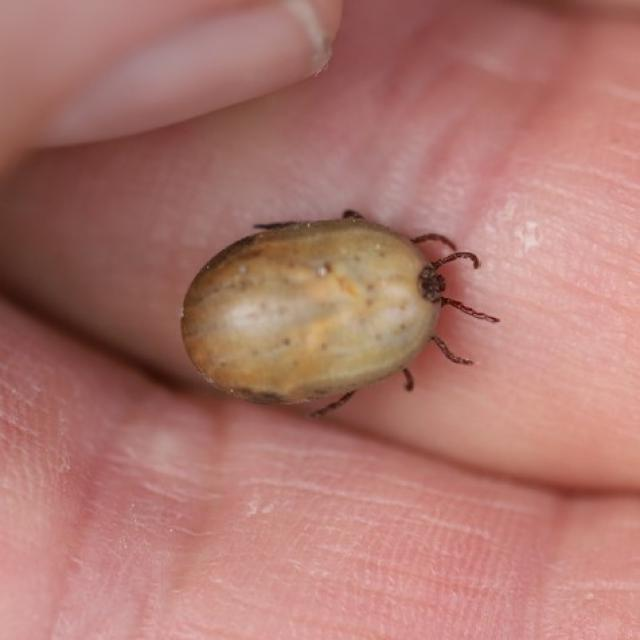Dermacentor Reticulatus-F-Fed: (180, 209, 500, 419)
